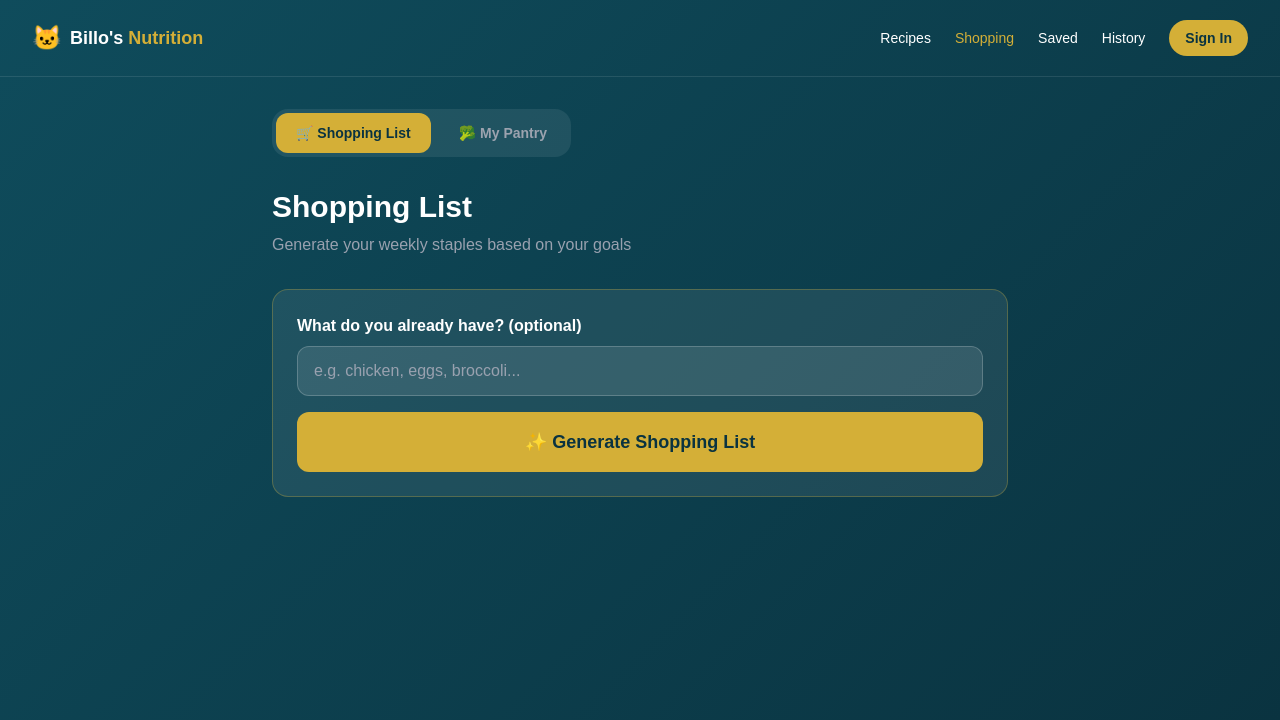
Test: ShoppingPage — Pantry tab › switches to pantry tab
Click the button "🥦 My Pantry" at (503, 133), box [439, 113, 567, 153]
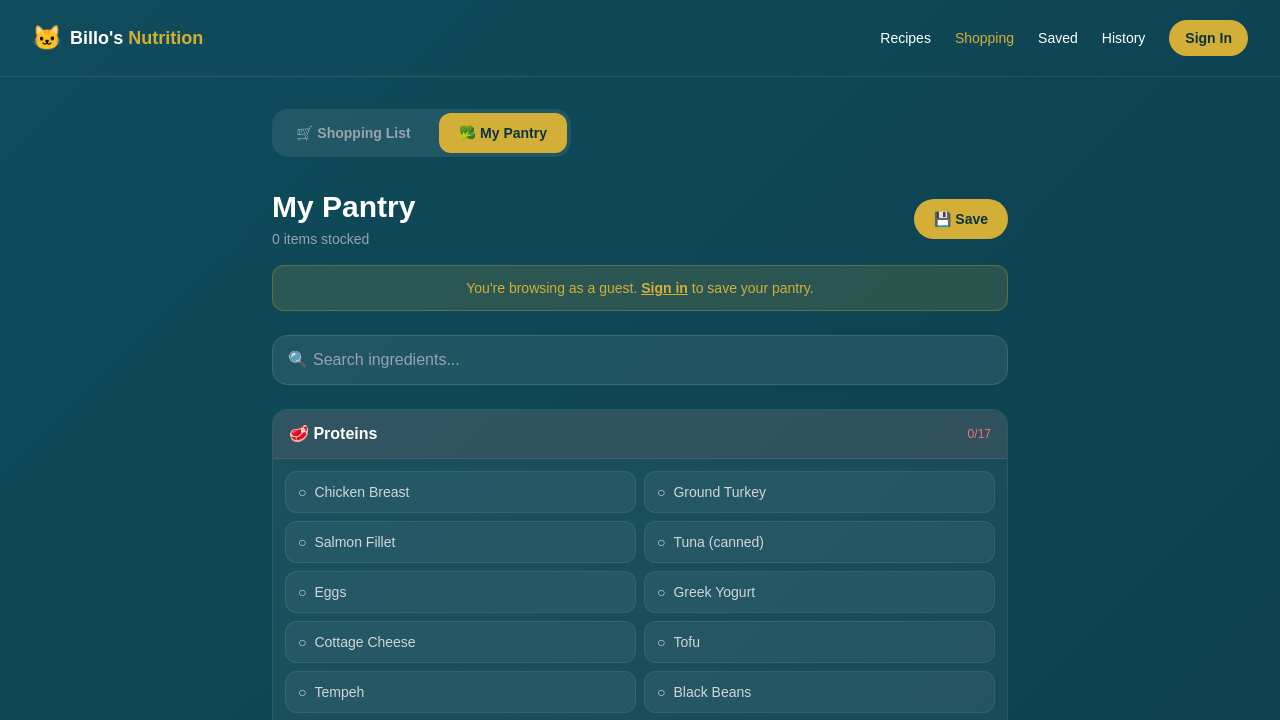
Now the heading "My Pantry" is shown, box [272, 189, 415, 225]
